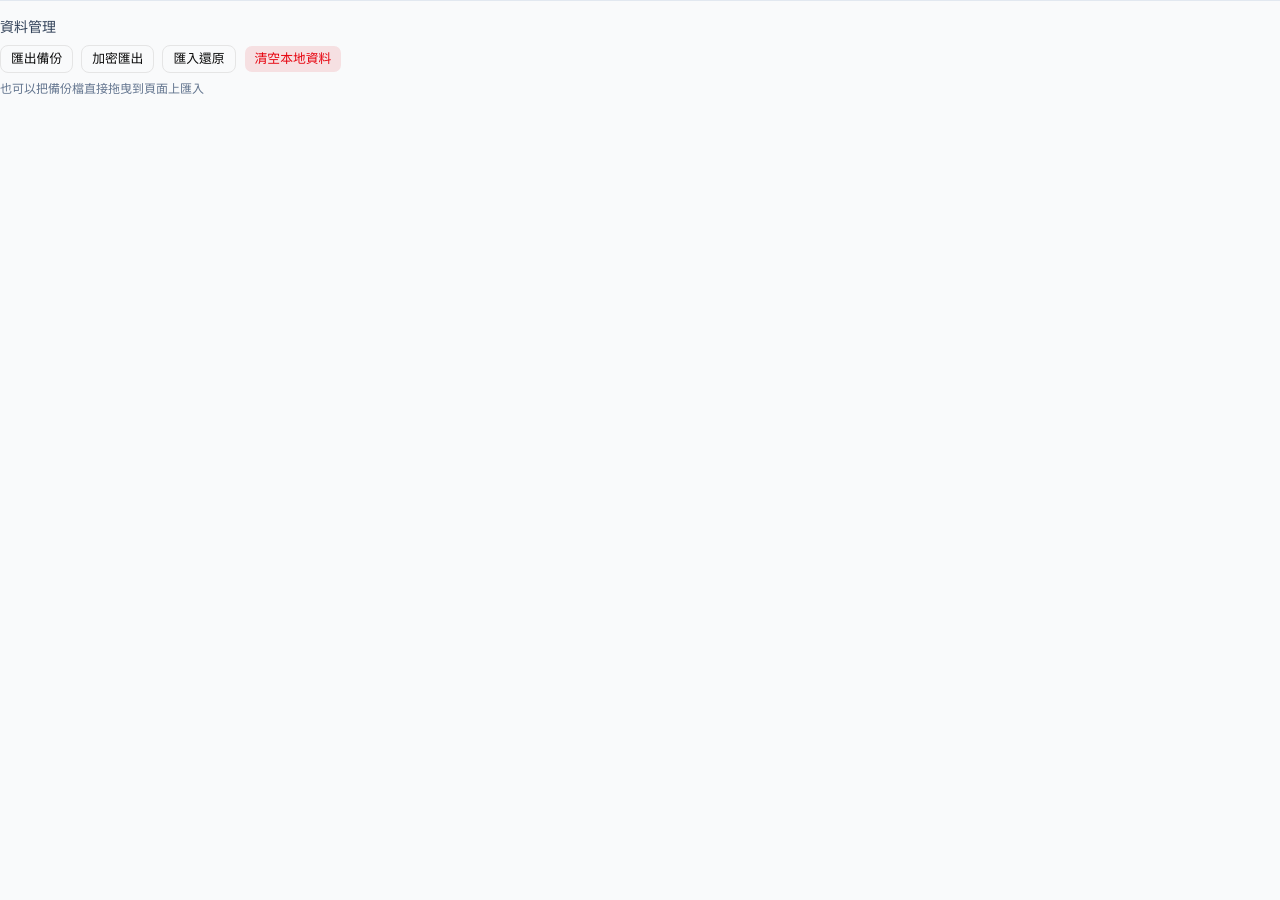
DataManagement › 加密匯出 › 點擊「加密匯出」開啟對話框，並提醒忘記密碼無法還原
Step 1. Click the button "加密匯出" → [118, 59], box 81,45 -> 154,73
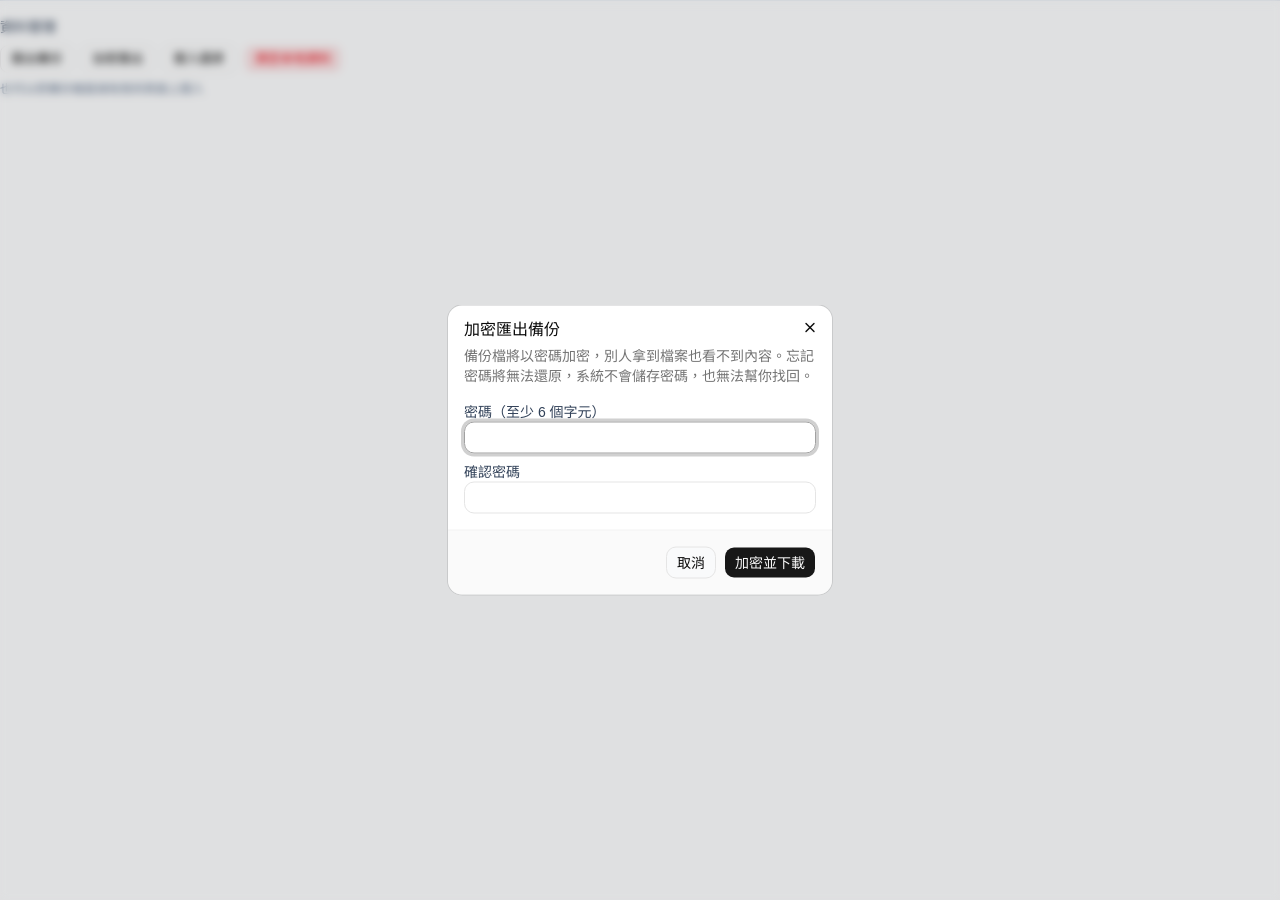
Expected: the heading "加密匯出備份" is shown, 464,320 -> 560,338
Expected: the text "備份檔將以密碼加密，別人拿到檔案也看不到內容。忘記密碼將無法還原，系統不會儲存密碼，也無法幫你找回。" is shown, 464,346 -> 816,386
